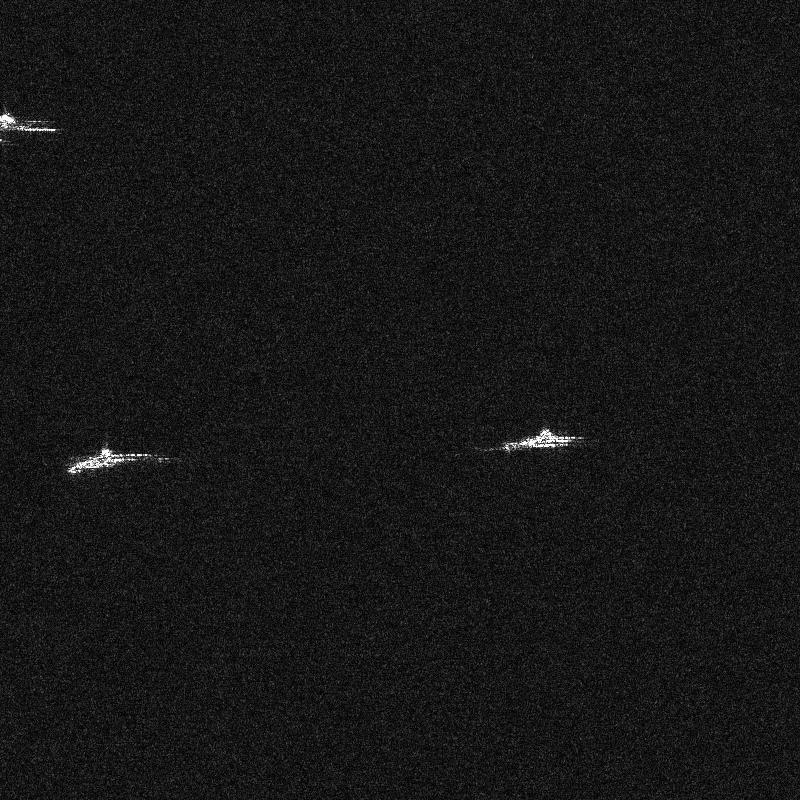ship: (503, 428, 575, 452), (67, 447, 125, 474), (0, 114, 15, 131)
